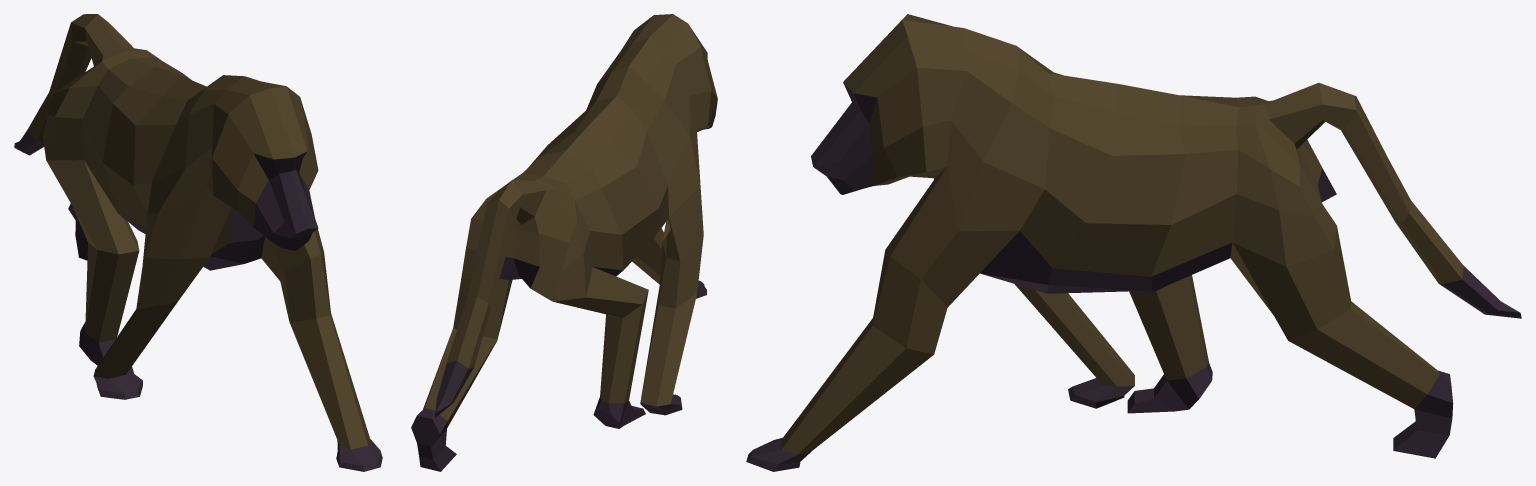
File: Affe1.fbx
3 renders of one model, left to right at view 1: azimuth 30°, elevation 25°; view 2: azimuth 150°, elevation 25°; view 3: azimuth 270°, elevation 25°, orthographic. The views are drawn at different scales.
Visible parts, largest first — view 1: Affe; view 2: Affe; view 3: Affe.
Part boxes in pixels (x1,y1,x2,y2): Affe: (14,14,382,471); Affe: (411,14,717,471); Affe: (746,14,1521,471).
Size of the model in its own units: 0.4389 by 0.9342 by 1.57.
